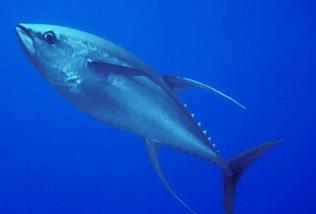Scombridae -Tunas-: (11, 19, 283, 214)
